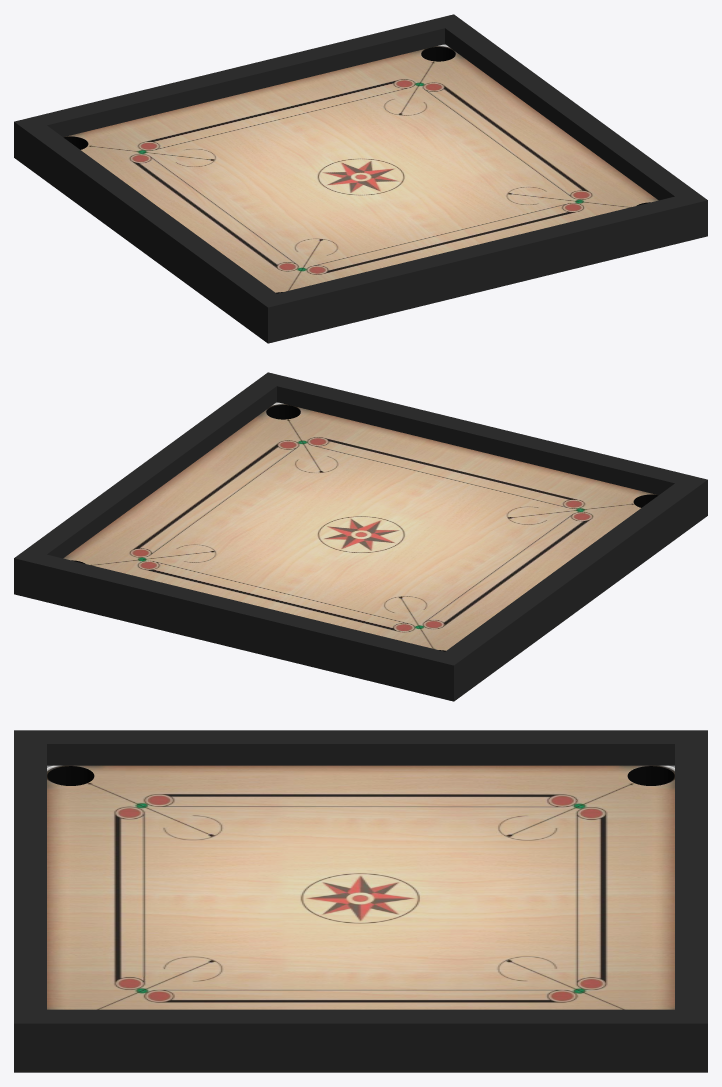
File: carrom_board_optimized.glb
The picture shows the model from 3 angles, top to bottom: view 1: azimuth 30°, elevation 25°; view 2: azimuth 150°, elevation 25°; view 3: azimuth 270°, elevation 25°; orthographic projection. The views are drawn at different scales.
Parts seen in each view (by area): view 1: Plane; view 2: Plane; view 3: Plane.
Boxes of the visible parts, bbox=[...] form: Plane: bbox=[14, 14, 707, 343]; Plane: bbox=[14, 372, 707, 701]; Plane: bbox=[14, 730, 707, 1072].
Bounding box in the file's own units: 11.86 × 0.9295 × 11.86.
2 materials, 1 textured.
